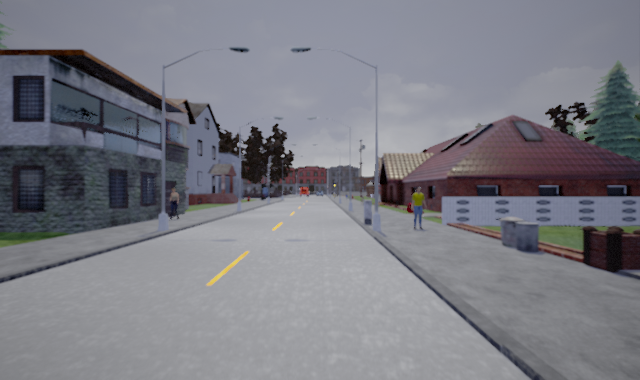pedestrian: (407, 185, 428, 229), (166, 186, 183, 219)
